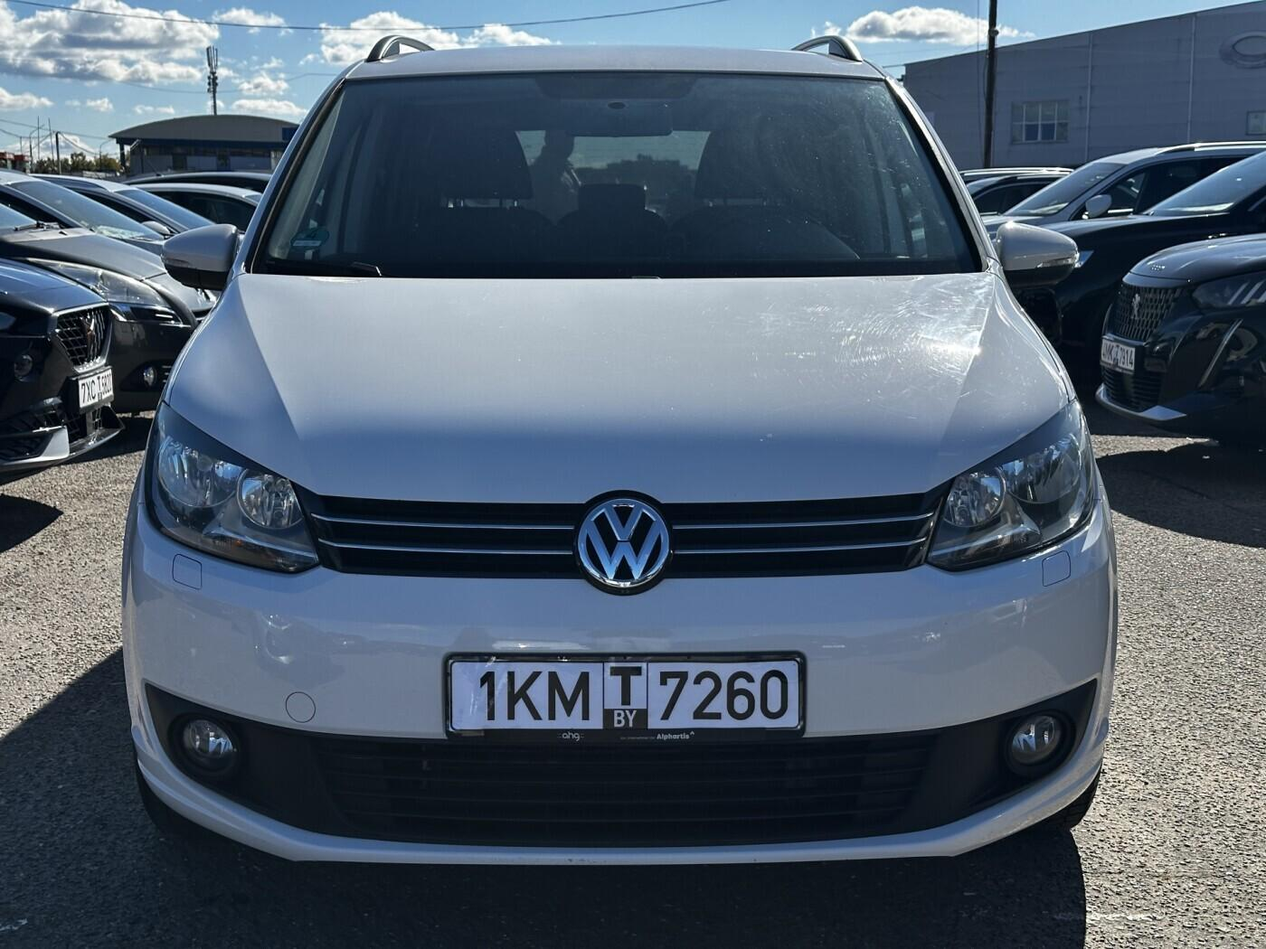Touran_2010-2015: (115, 37, 1121, 883)
